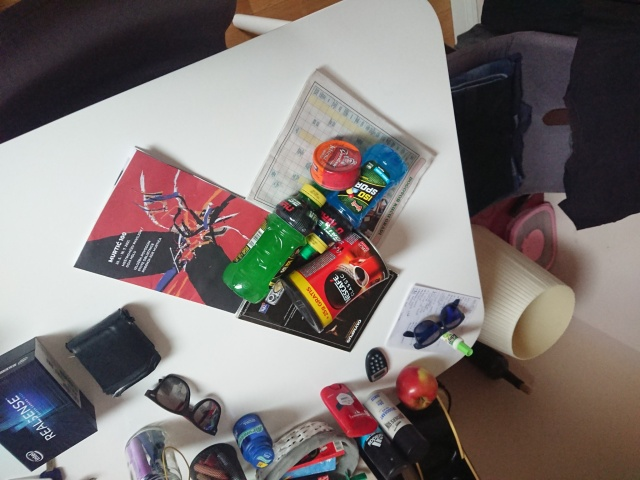Gavrilovic Pork Liver Pate 100g: (308, 139, 363, 193)
Nescafe Classic 225g: (277, 227, 392, 336)
Vindi Iso Sport Forest Strawberries 500mL: (297, 141, 410, 262)
Vindi Iso Sport Lemon-Grapefruit 500mL: (220, 176, 333, 306)
